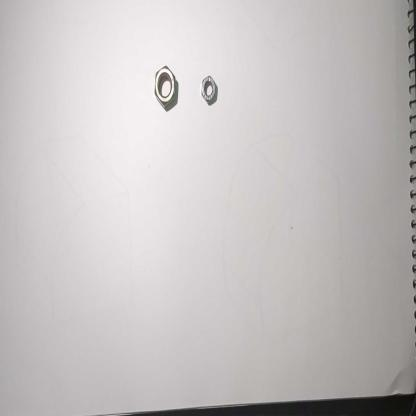NUTS: (152, 60, 179, 112), (198, 65, 221, 111)
